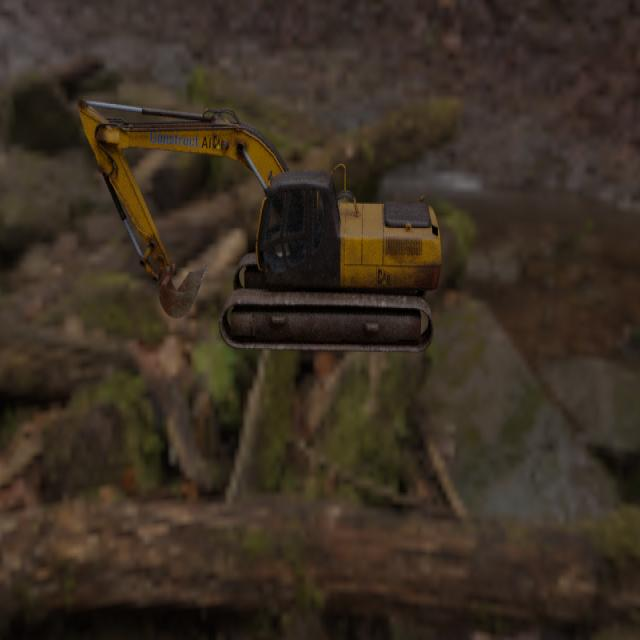excavator: (77, 95, 442, 352)
